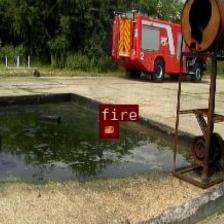fire: (99, 120, 117, 138)
